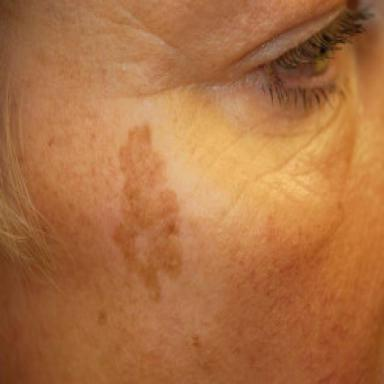Melanoma: (114, 125, 181, 300)
